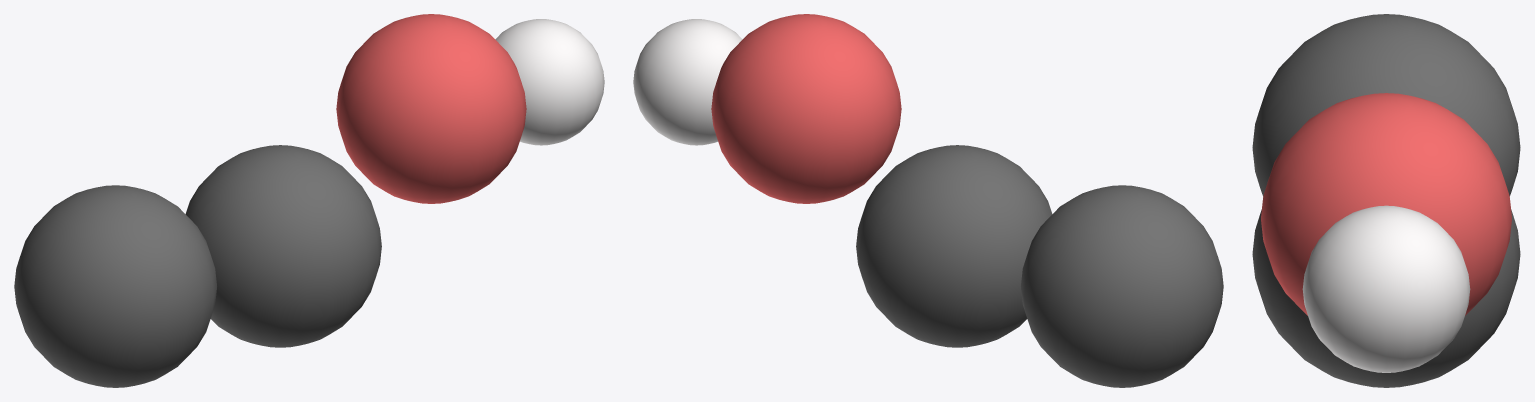
The model's file is ethanol.glb.
The picture shows the model from 3 angles, left to right: view 1: azimuth 30°, elevation 25°; view 2: azimuth 150°, elevation 25°; view 3: azimuth 270°, elevation 25°; orthographic projection. The views are drawn at different scales.
Visible parts, largest first — view 1: c1_node, c2_node, o_node, h_node; view 2: c1_node, c2_node, o_node, h_node; view 3: o_node, h_node, c1_node, c2_node.
Part boxes in pixels (x1,y1,x2,y2): c1_node: (14, 185, 216, 387); c2_node: (185, 145, 381, 347); o_node: (336, 14, 526, 203); h_node: (495, 19, 604, 145); c1_node: (1021, 185, 1223, 387); c2_node: (856, 145, 1052, 347); o_node: (711, 14, 901, 203); h_node: (633, 19, 742, 145); o_node: (1261, 93, 1511, 315); h_node: (1302, 205, 1470, 372); c1_node: (1252, 14, 1520, 196); c2_node: (1252, 209, 1520, 387).
Size of the model in its own units: 2.07 by 0.97 by 0.64.
